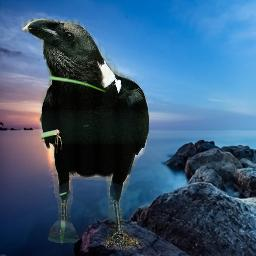Crow: (21, 18, 149, 250)
